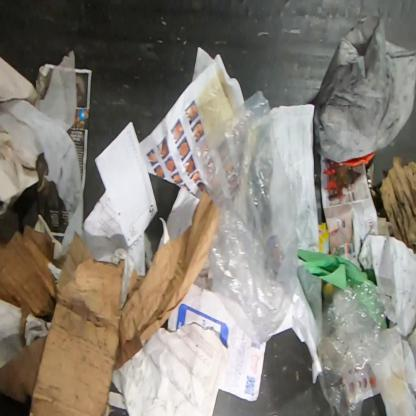cardboard: (0, 192, 220, 415)
soft_plastic: (195, 91, 299, 343), (312, 280, 392, 415)
